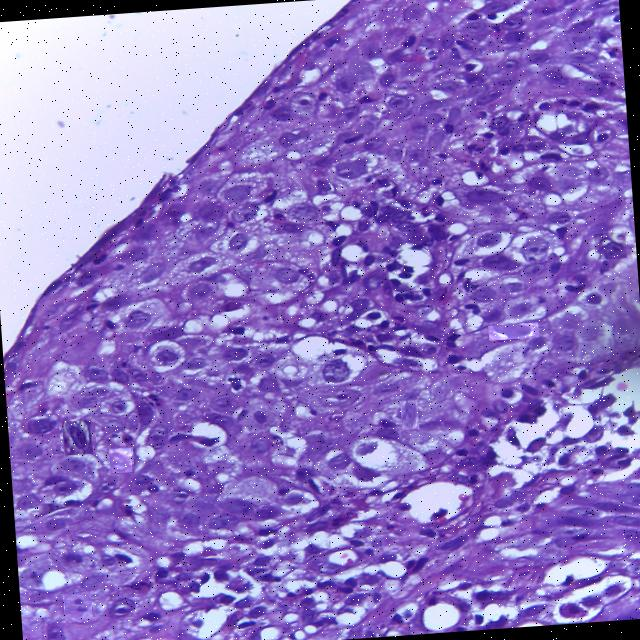Multiple Nucleol: (62, 420, 92, 454), (62, 592, 90, 621), (594, 233, 624, 259), (109, 448, 130, 472), (400, 401, 417, 428)
Nuclear Hyperchromatism: (487, 322, 538, 340), (459, 279, 474, 294)
